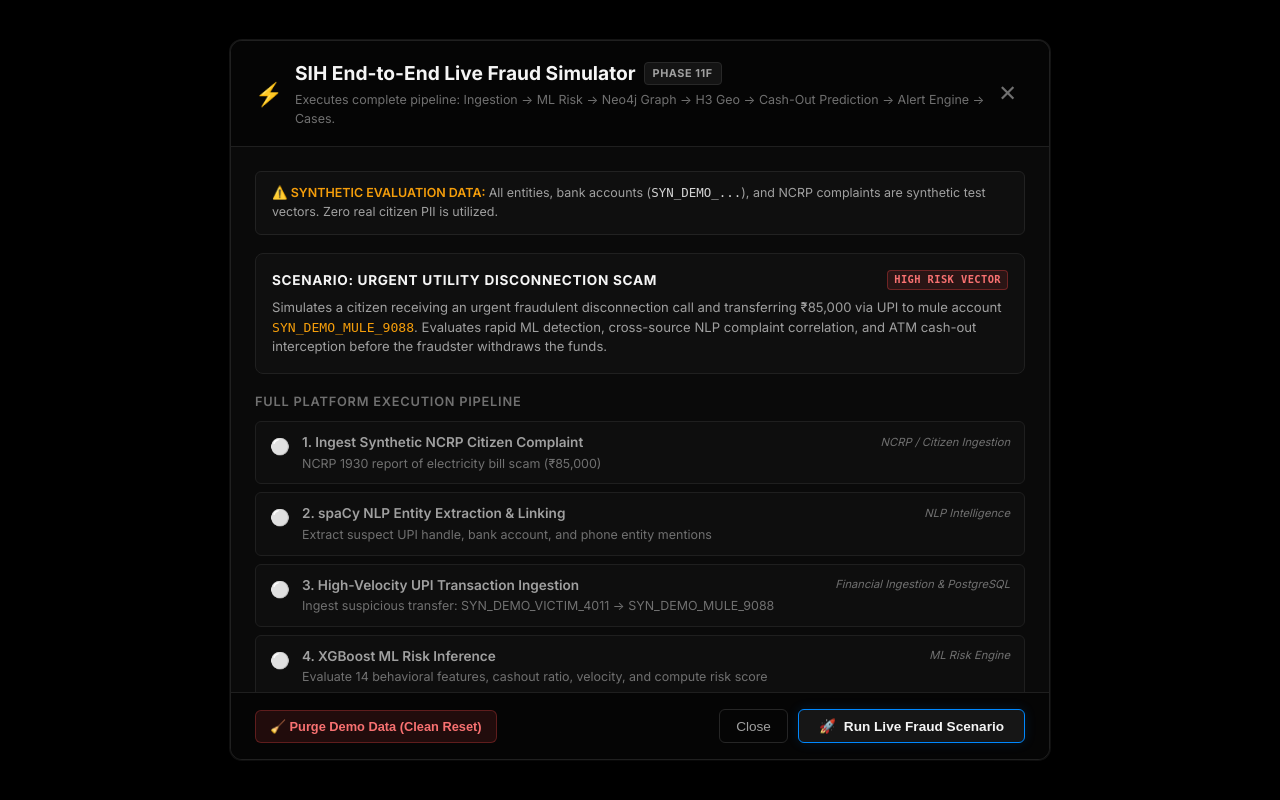
Test: Phase 11F: DemoSimulationModal UI Component › orchestrates complete simulation flow when "Run Live Fraud Scenario" is clicked
Click the button with test id "simulate-fraud-btn" at (911, 726), box left=798, top=709, right=1025, bottom=743
(page scrolled)
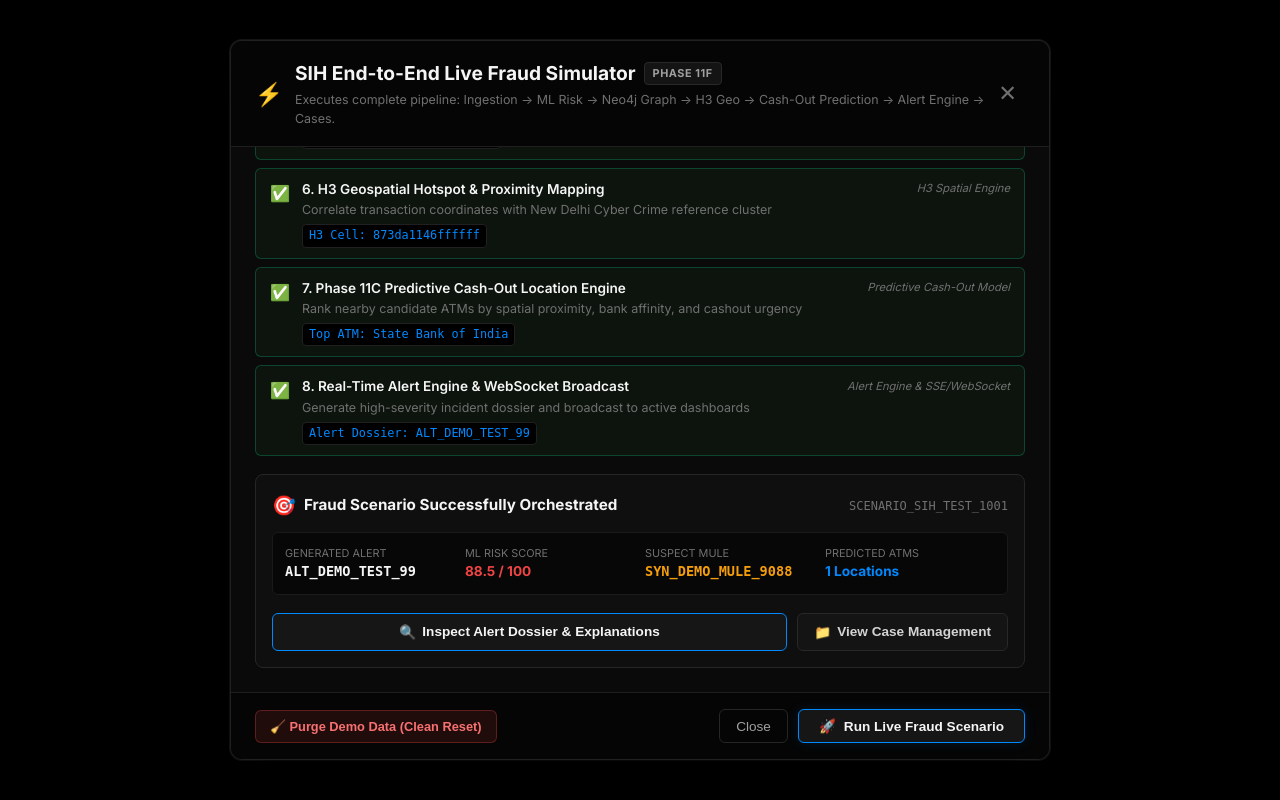
Expected: the text "Fraud Scenario Successfully Orchestrated" is shown, left=304, top=494, right=617, bottom=517
Expected: the text "ALT_DEMO_TEST_99" is shown, left=285, top=563, right=416, bottom=579
Expected: the text "Inspect Alert Dossier & Explanations" is shown, left=422, top=624, right=660, bottom=639
